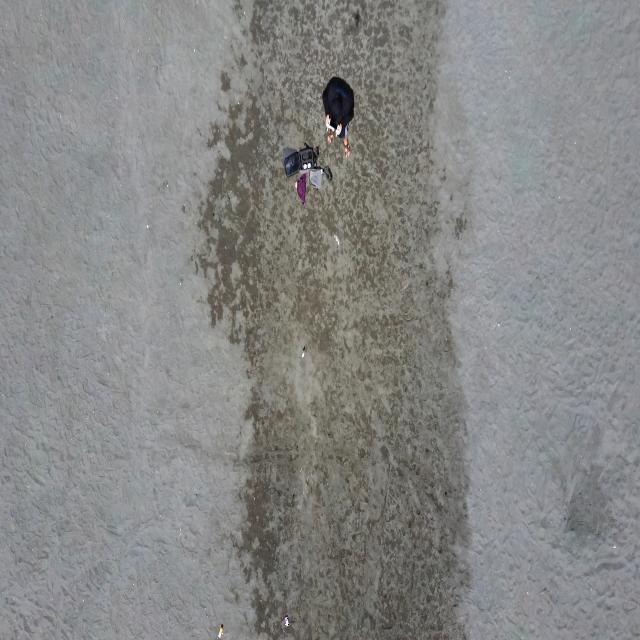retort-pouch: (218, 624, 223, 640), (285, 614, 289, 628)
